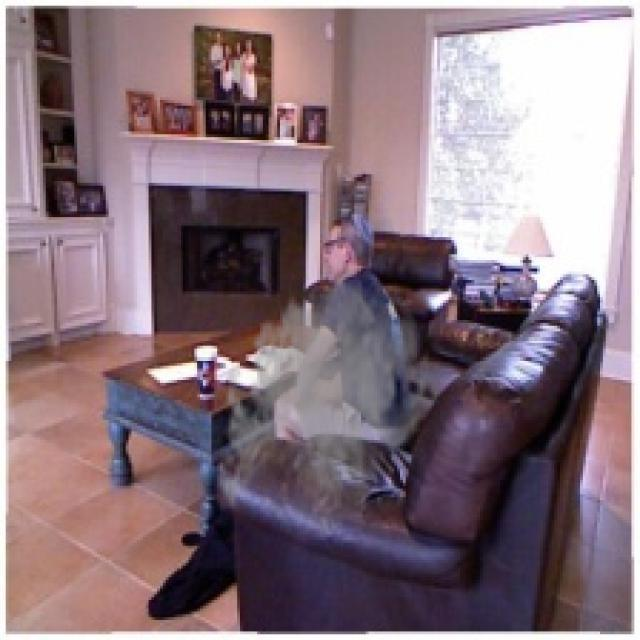Smoke: (211, 266, 443, 548)
